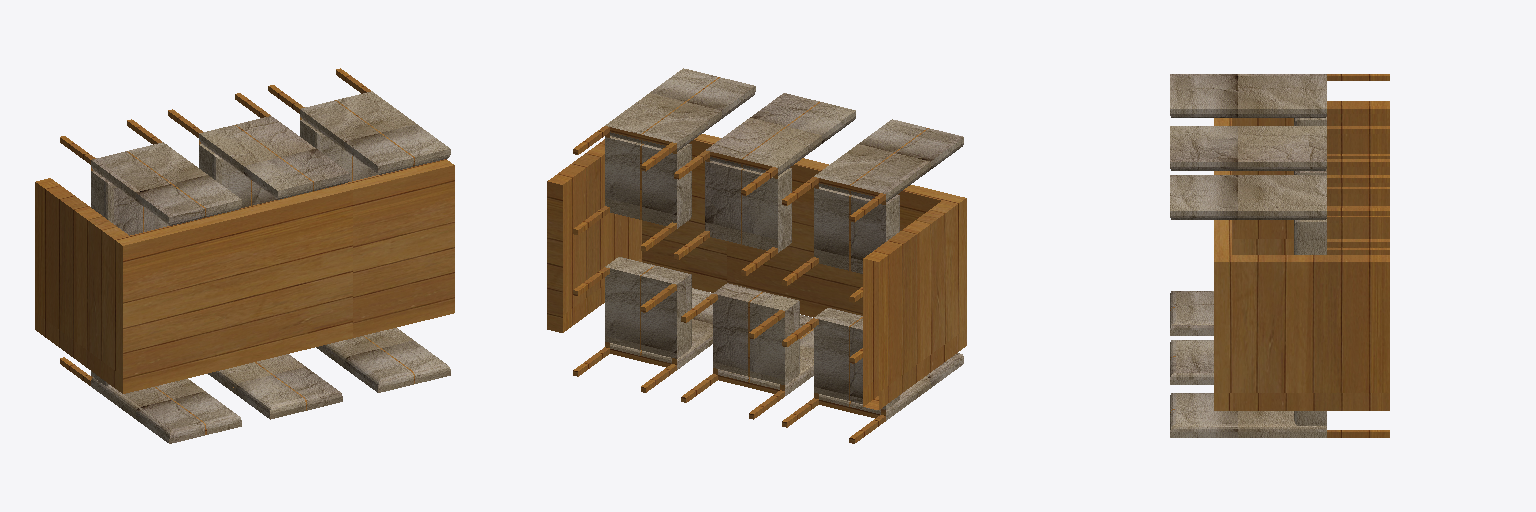
The picture shows the model from 3 angles: view 1: azimuth 30°, elevation 25°; view 2: azimuth 150°, elevation 25°; view 3: azimuth 270°, elevation 25°; orthographic projection.
Parts seen in each view (by area): view 1: Mesh7_Model, Mesh4_Model, Mesh3_Model, Mesh5_Model, Mesh1_Model, Mesh2_Model, Mesh6_Model; view 2: Mesh7_Model, Mesh3_Model, Mesh5_Model, Mesh4_Model, Mesh6_Model, Mesh2_Model, Mesh1_Model; view 3: Mesh7_Model, Mesh5_Model, Mesh4_Model, Mesh3_Model, Mesh6_Model, Mesh1_Model, Mesh2_Model.
Boxes of the visible parts, box(x1,y1,x2,y2) form: Mesh7_Model: box(35, 159, 454, 393); Mesh4_Model: box(60, 119, 241, 235); Mesh3_Model: box(168, 93, 349, 208); Mesh5_Model: box(268, 68, 450, 181); Mesh1_Model: box(60, 357, 241, 443); Mesh2_Model: box(208, 354, 342, 419); Mesh6_Model: box(316, 328, 450, 392); Mesh7_Model: box(547, 134, 966, 409); Mesh3_Model: box(674, 93, 855, 275); Mesh5_Model: box(573, 68, 755, 251); Mesh4_Model: box(782, 119, 963, 302); Mesh6_Model: box(573, 257, 712, 392); Mesh2_Model: box(681, 283, 813, 419); Mesh1_Model: box(782, 308, 963, 443); Mesh7_Model: box(1214, 101, 1389, 410); Mesh5_Model: box(1170, 175, 1389, 254); Mesh4_Model: box(1170, 74, 1389, 193); Mesh3_Model: box(1170, 126, 1389, 246); Mesh6_Model: box(1170, 393, 1389, 437); Mesh1_Model: box(1170, 216, 1389, 335); Mesh2_Model: box(1170, 340, 1213, 384).
Size of the model in its own units: 1.78 by 1.17 by 1.03.
2 materials, 2 textured.